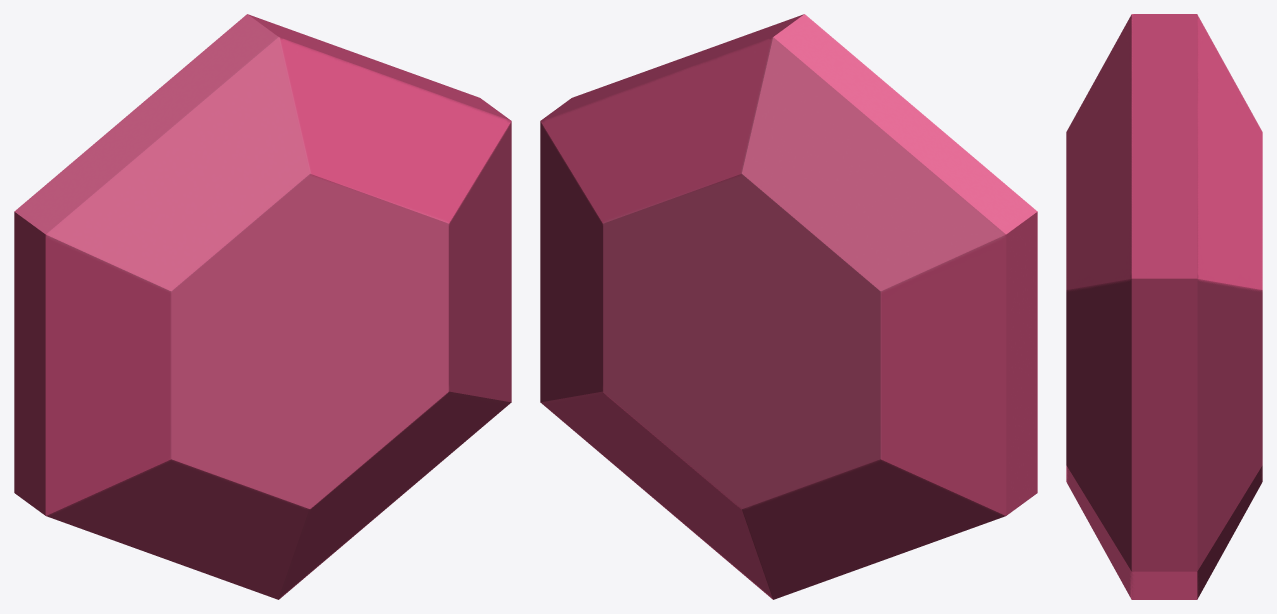
The model's file is Dia_01.FBX.
3 renders of one model, left to right at view 1: azimuth 30°, elevation 25°; view 2: azimuth 150°, elevation 25°; view 3: azimuth 270°, elevation 25°, orthographic. The views are drawn at different scales.
Visible parts, largest first — view 1: Dia_01; view 2: Dia_01; view 3: Dia_01.
Part boxes in pixels (x1,y1,x2,y2): Dia_01: [14, 14, 511, 599]; Dia_01: [540, 14, 1037, 599]; Dia_01: [1066, 14, 1262, 599].
Size of the model in its own units: 3.37 by 3.89 by 1.18.
